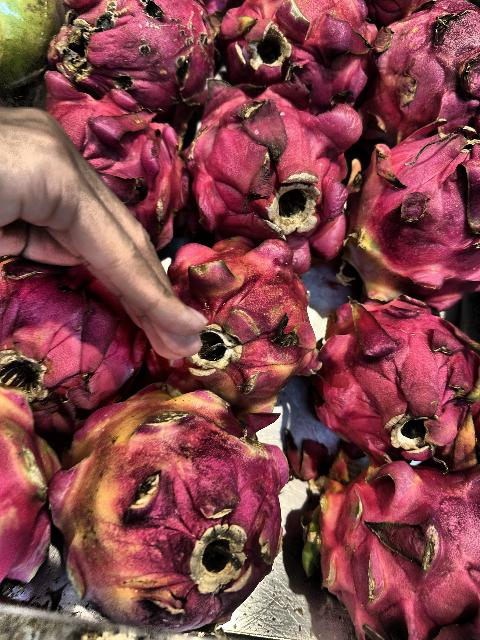buah-naga-belum-matang: (69, 388, 288, 630), (165, 243, 319, 414), (362, 126, 480, 318), (0, 386, 64, 602)
buah-naga-matang: (292, 432, 480, 640), (190, 82, 356, 250), (322, 282, 476, 444), (42, 74, 184, 248), (0, 267, 140, 408), (51, 1, 213, 114), (212, 1, 366, 108), (372, 1, 480, 127)
